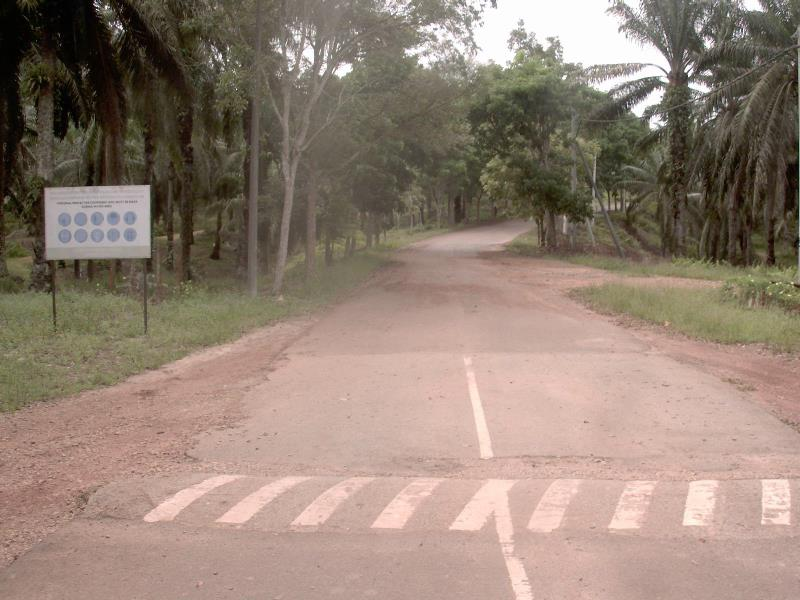ads_sign: (30, 174, 165, 272)
